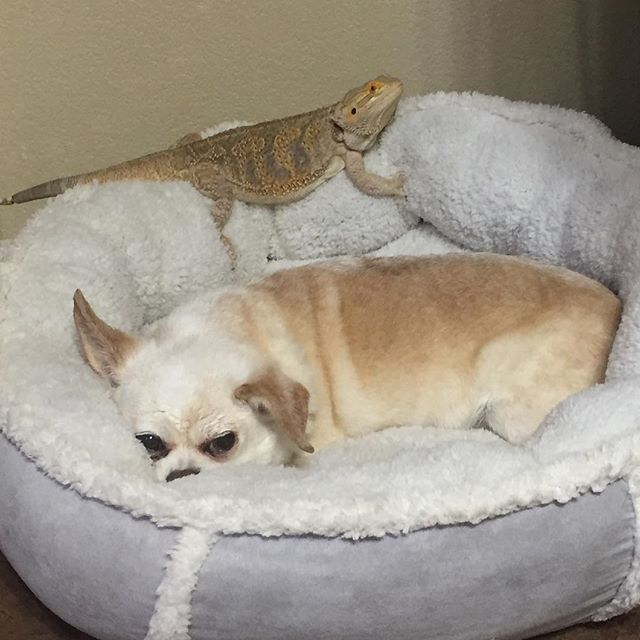bearded: (3, 75, 411, 261)
